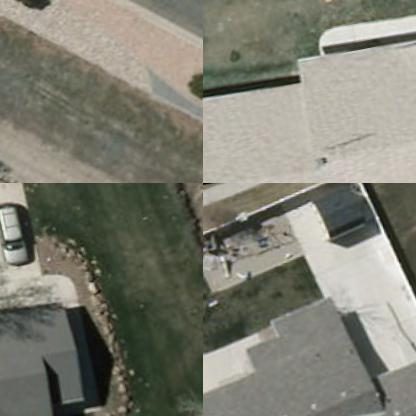car: (0, 194, 31, 268)
